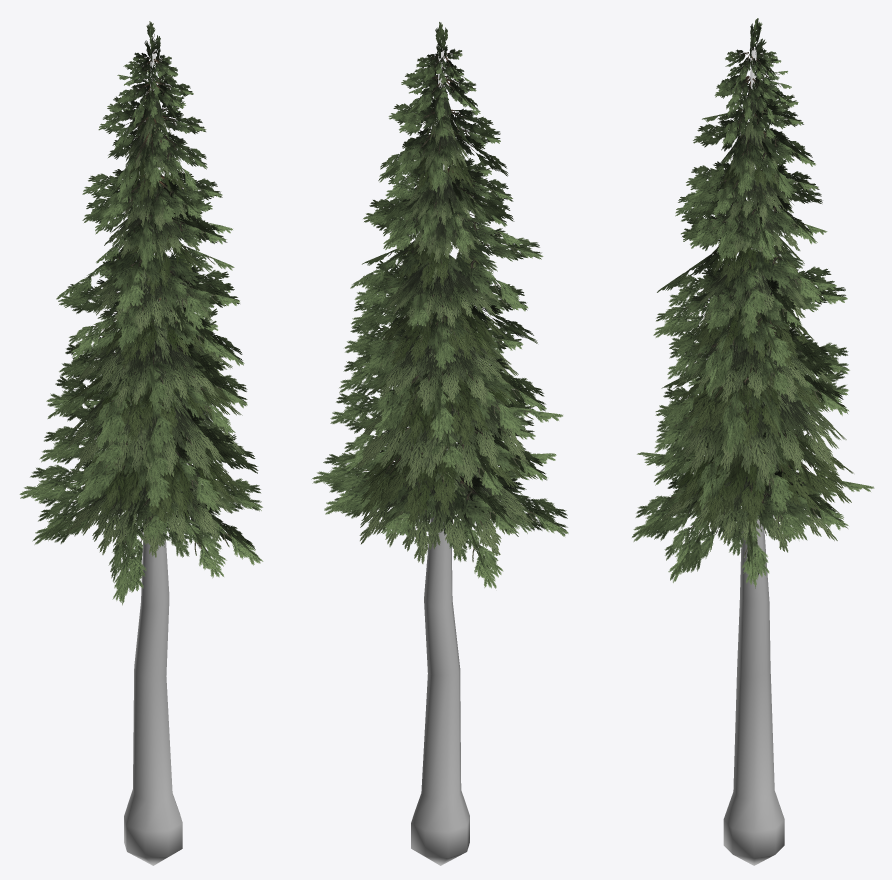
The model's file is Pine_08.fbx.
3 views of the same model, side by side, from view 1: azimuth 30°, elevation 25°; view 2: azimuth 150°, elevation 25°; view 3: azimuth 270°, elevation 25° (orthographic).
Visible parts, largest first — view 1: polySurface1; view 2: polySurface1; view 3: polySurface1.
Part boxes in pixels (x1=…): polySurface1: x1=19, y1=21, x2=263, y2=865; polySurface1: x1=311, y1=22, x2=568, y2=865; polySurface1: x1=632, y1=18, x2=874, y2=865.
Size of the model in its own units: 4.96 by 16.67 by 4.62.
